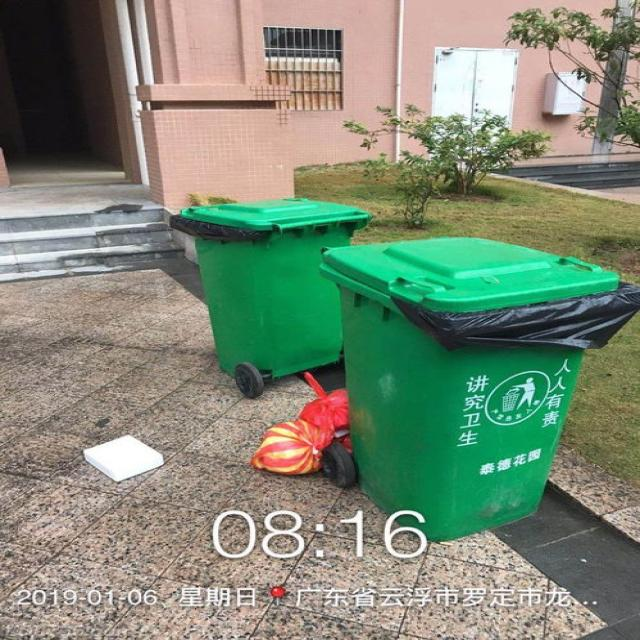garbage: (248, 371, 352, 475)
garbage_bin: (318, 235, 639, 541), (168, 195, 371, 382)
